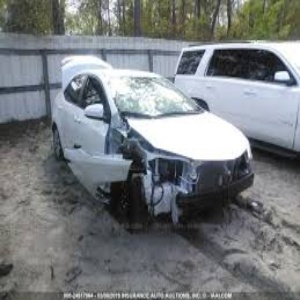bumper: (137, 156, 206, 222)
